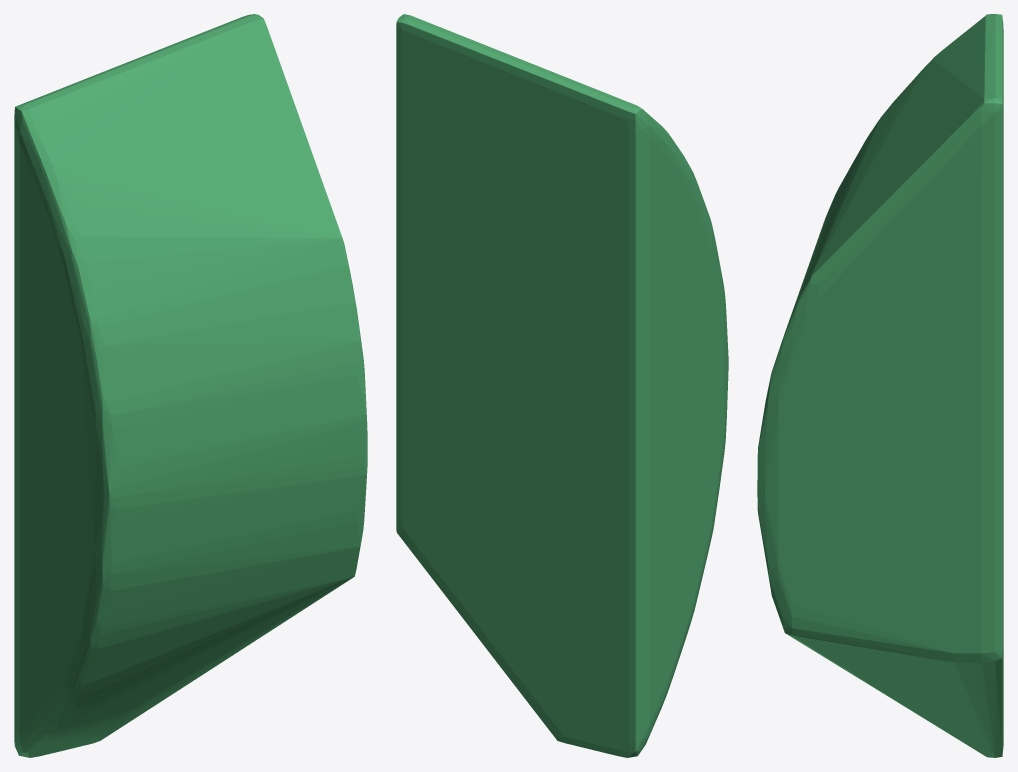
The model's file is right_hip_roll_link_part_3.obj.
3 views of the same model, side by side, from view 1: azimuth 30°, elevation 25°; view 2: azimuth 150°, elevation 25°; view 3: azimuth 270°, elevation 25° (orthographic). The views are drawn at different scales.
Bounding box in the file's own units: 0.0338 × 0.0892 × 0.0268.
